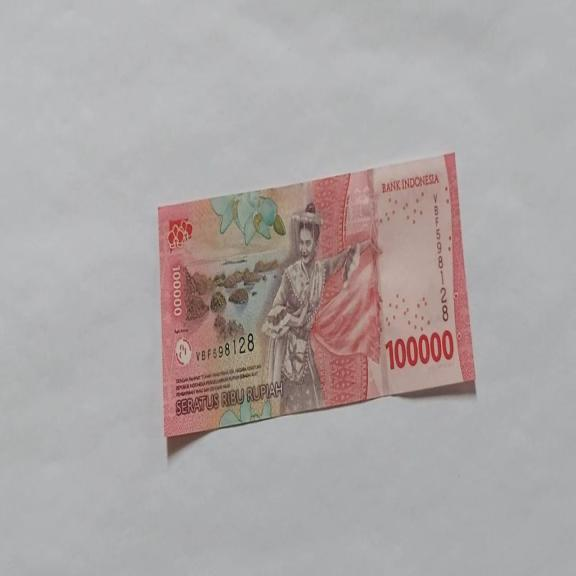Kertas: (157, 149, 476, 438), (385, 328, 454, 371)
